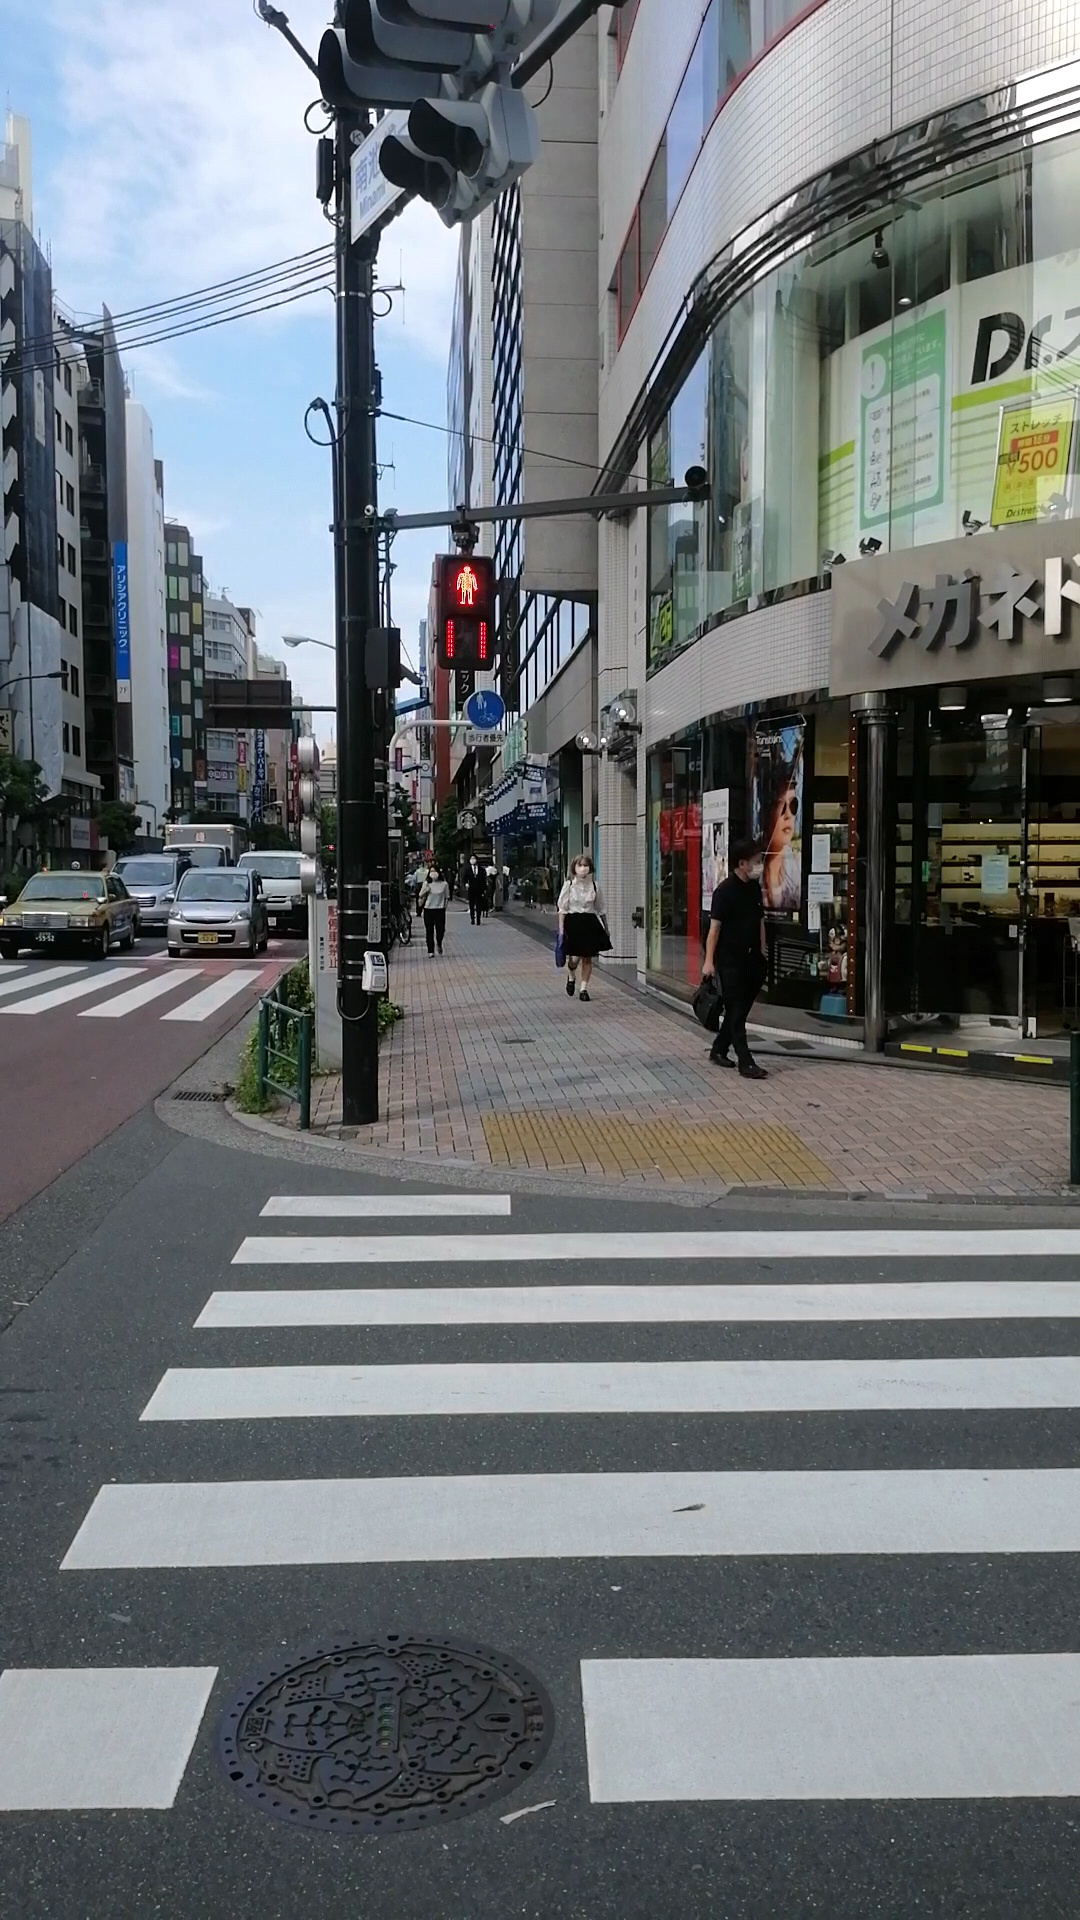red: (434, 555, 496, 673)
